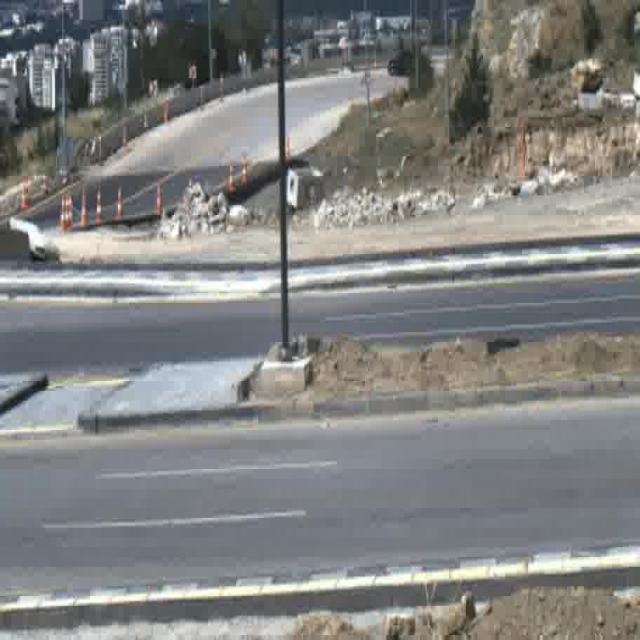Car: (388, 49, 418, 78)
